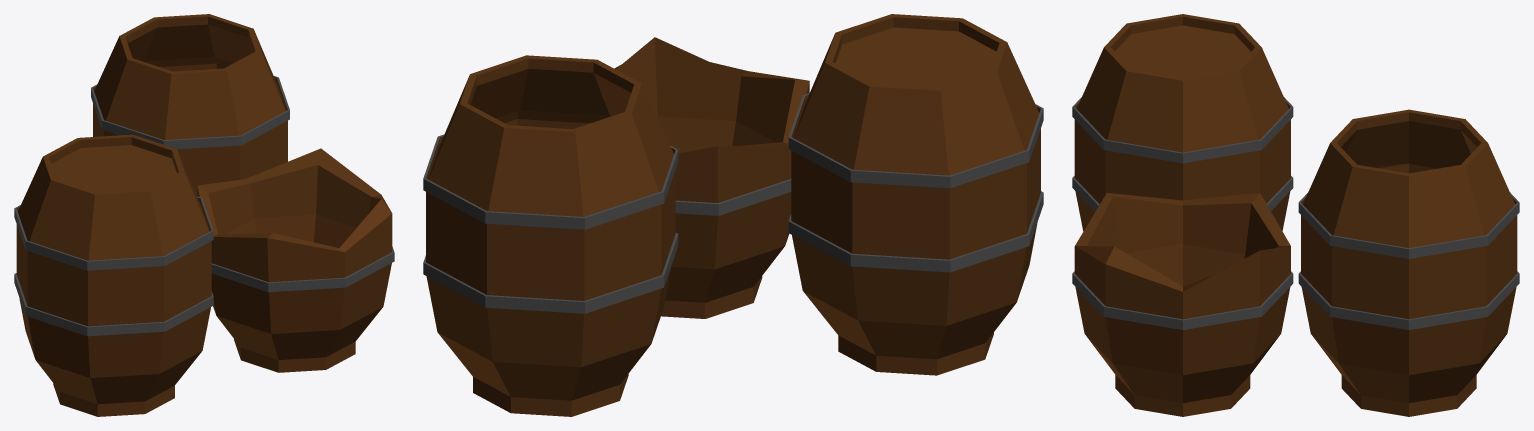
Rendered from Barrel01.glb.
The picture shows the model from 3 angles, left to right: view 1: azimuth 30°, elevation 25°; view 2: azimuth 150°, elevation 25°; view 3: azimuth 270°, elevation 25°; orthographic projection. The views are drawn at different scales.
Visible parts, largest first — view 1: Barrel_Closed, Barrel_broken, Barrel_Opened; view 2: Barrel_Closed, Barrel_Opened, Barrel_broken; view 3: Barrel_Opened, Barrel_broken, Barrel_Closed.
Boxes of the visible parts, x1,y1,x2,y2 form: Barrel_Closed: (14,134,213,416); Barrel_broken: (197,148,394,372); Barrel_Opened: (91,14,289,195); Barrel_Closed: (788,14,1043,375); Barrel_Opened: (423,55,678,416); Barrel_broken: (614,37,809,318); Barrel_Opened: (1298,109,1519,416); Barrel_broken: (1072,192,1293,416); Barrel_Closed: (1072,14,1293,231).
Bounding box in the file's own units: 1.38 × 0.8382 × 1.38.
Materials: 2 (1 with a texture image).
